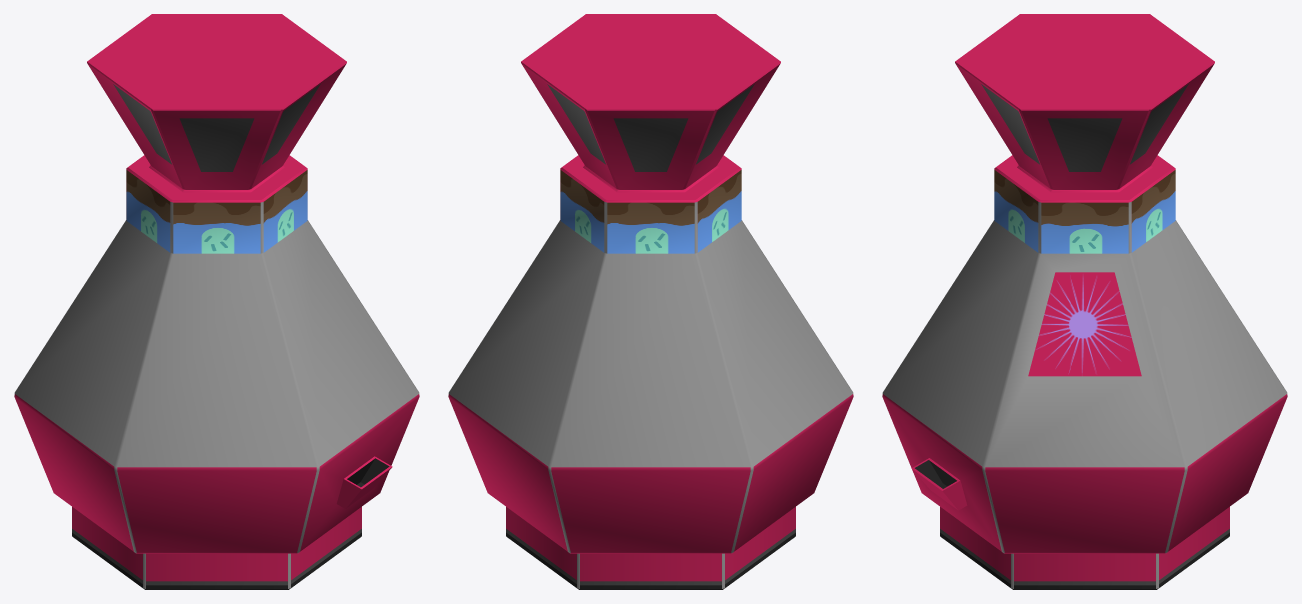
Rendered from TicketMachineV2.fbx.
3 views of the same model, side by side, from view 1: azimuth 30°, elevation 25°; view 2: azimuth 150°, elevation 25°; view 3: azimuth 270°, elevation 25° (orthographic).
Parts seen in each view (by area): view 1: TicketMachineV2; view 2: TicketMachineV2; view 3: TicketMachineV2.
Part boxes in pixels (bbox=[...]): TicketMachineV2: bbox=[14, 14, 419, 589]; TicketMachineV2: bbox=[448, 14, 853, 589]; TicketMachineV2: bbox=[882, 14, 1287, 589].
Size of the model in its own units: 6.04 by 9 by 6.94.
